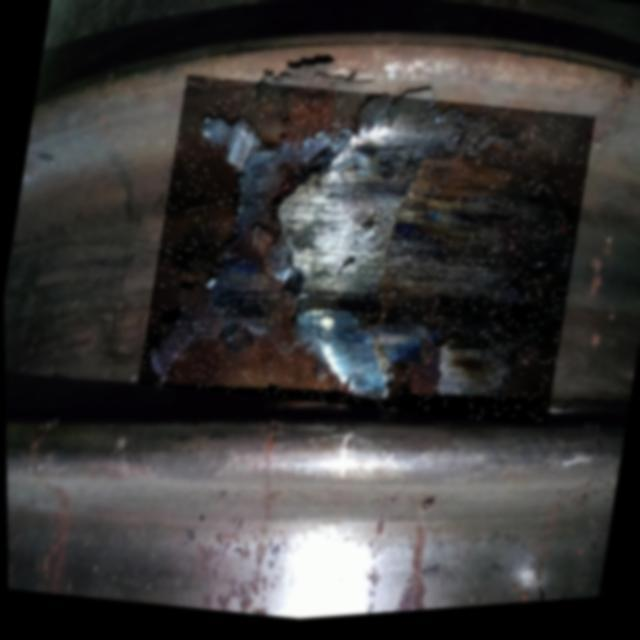Peeling: (133, 55, 599, 459)
